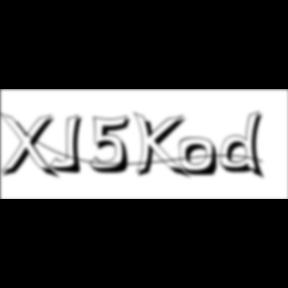5: (90, 114, 136, 176)
J: (50, 114, 88, 176)
K: (134, 110, 192, 182)
X: (0, 112, 62, 182)
d: (220, 110, 270, 182)
o: (179, 137, 221, 179)
